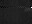person: (25, 4, 31, 9)
